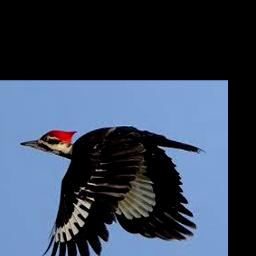Woodpecker: (21, 125, 207, 256)
